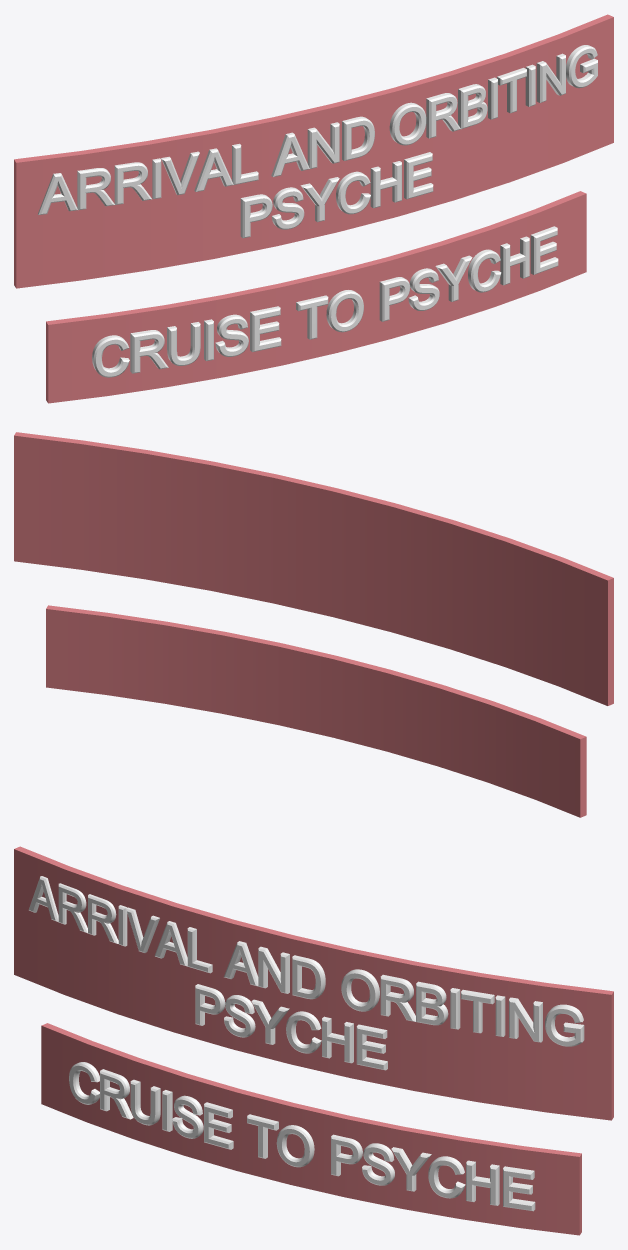
File: cruise-arrival-scene-name-transformed.glb
The picture shows the model from 3 angles, top to bottom: view 1: azimuth 30°, elevation 25°; view 2: azimuth 150°, elevation 25°; view 3: azimuth 330°, elevation 25°; orthographic projection.
Parts seen in each view (by area): view 1: Box004, Box003, MissionLaunchText002, MissionLaunchText001, MissionLaunchText003; view 2: Box004, Box003; view 3: Box004, Box003, MissionLaunchText002, MissionLaunchText001, MissionLaunchText003.
Boxes of the visible parts, x1,y1,x2,y2 form: Box004: (14, 14, 613, 288); Box003: (46, 191, 586, 403); MissionLaunchText002: (38, 45, 597, 214); MissionLaunchText001: (92, 226, 558, 377); MissionLaunchText003: (240, 152, 433, 238); Box004: (14, 432, 613, 705); Box003: (46, 605, 586, 817); Box004: (14, 846, 613, 1120); Box003: (41, 1023, 581, 1235); MissionLaunchText002: (28, 876, 584, 1046); MissionLaunchText001: (69, 1062, 535, 1211); MissionLaunchText003: (195, 984, 387, 1070).
Bounding box in the file's own units: 10.11 × 3.98 × 0.8774.
